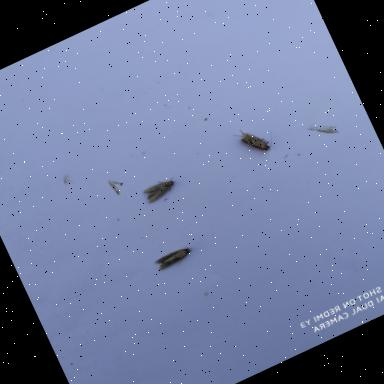pbw: (230, 115, 282, 164), (151, 240, 199, 277), (138, 172, 182, 207)
